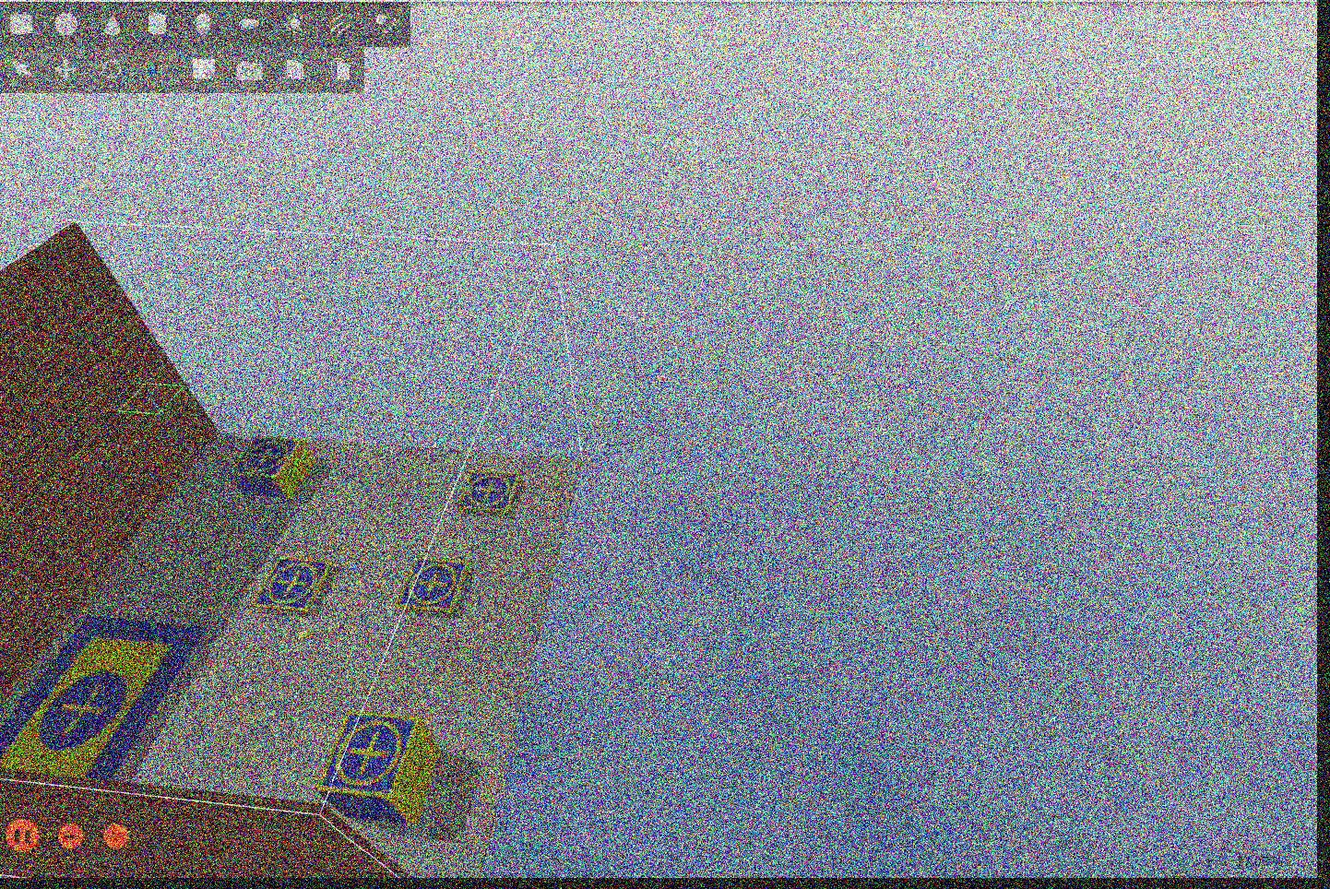large_base: (1, 616, 205, 784)
small_base: (321, 713, 423, 798), (398, 557, 476, 619), (251, 560, 336, 610), (455, 468, 525, 516), (232, 435, 303, 480)
